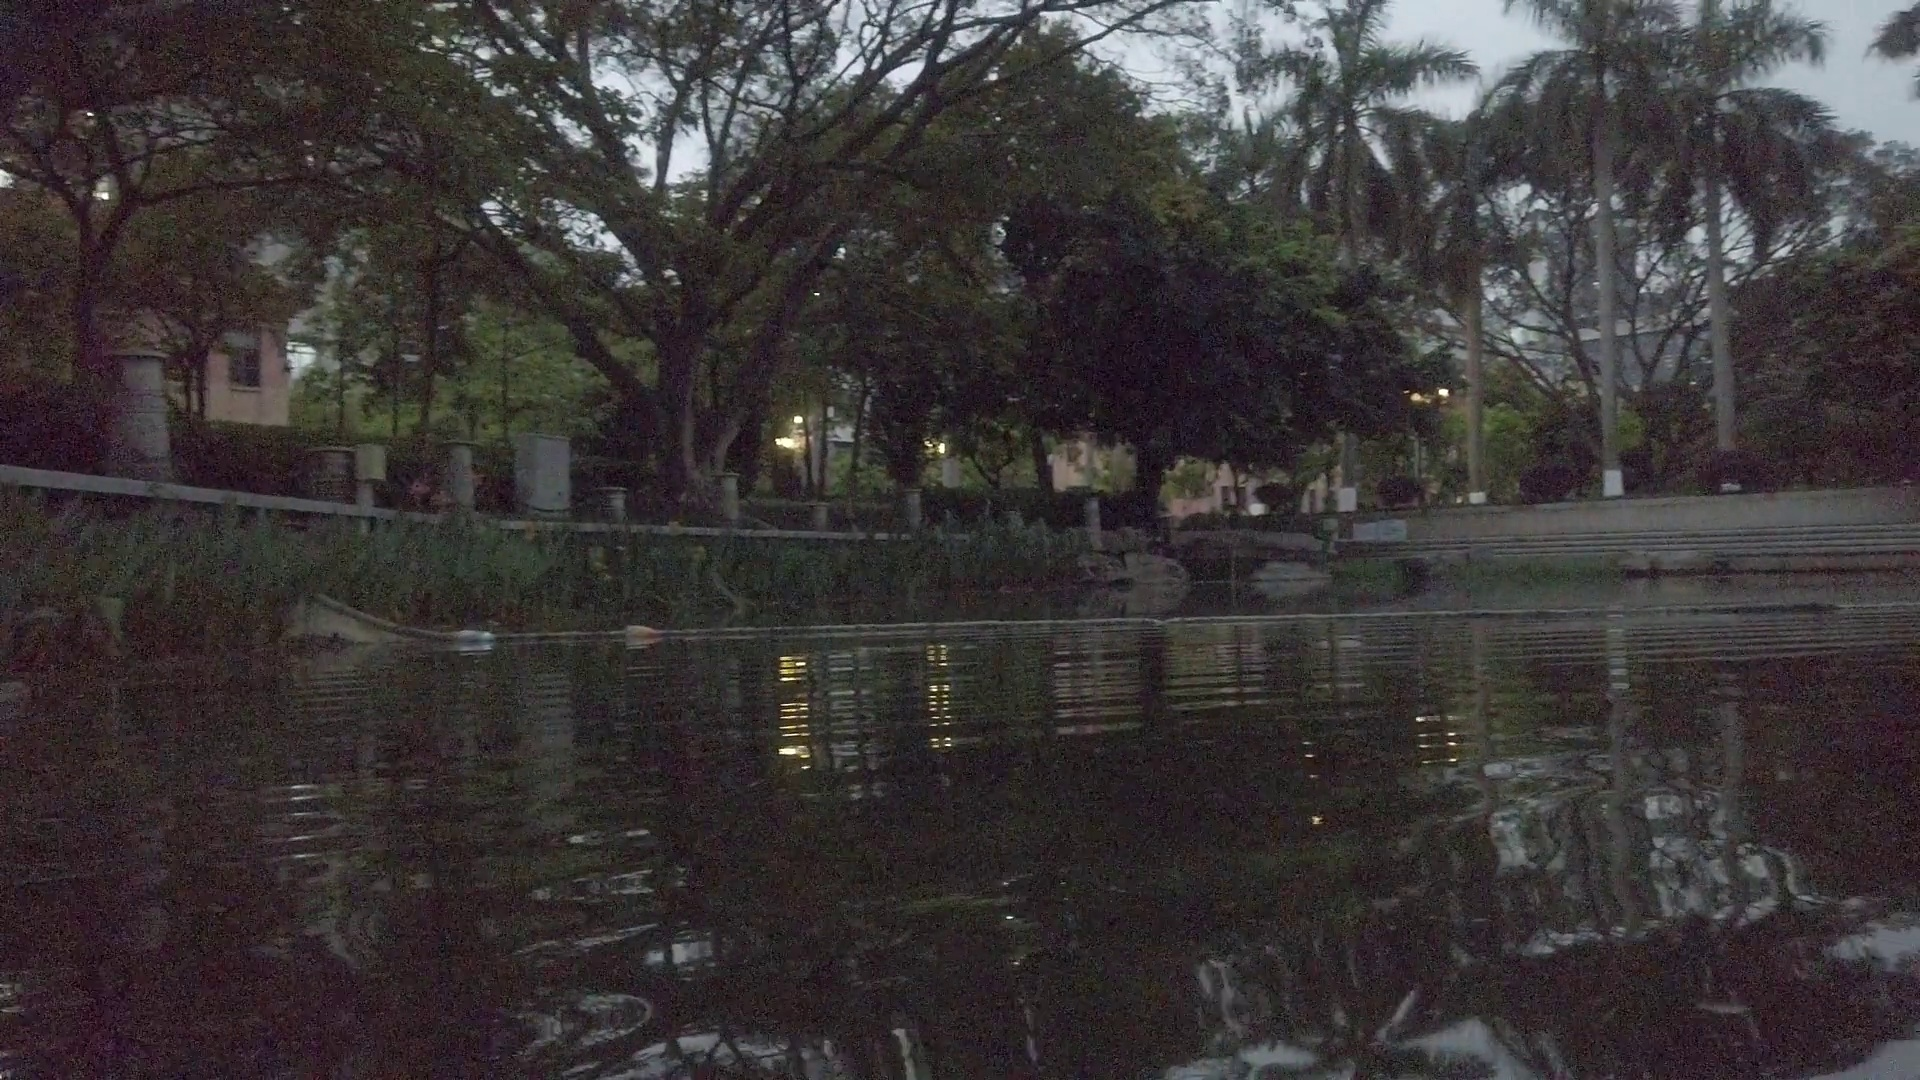bottle: (454, 629, 495, 644), (622, 625, 659, 640)
